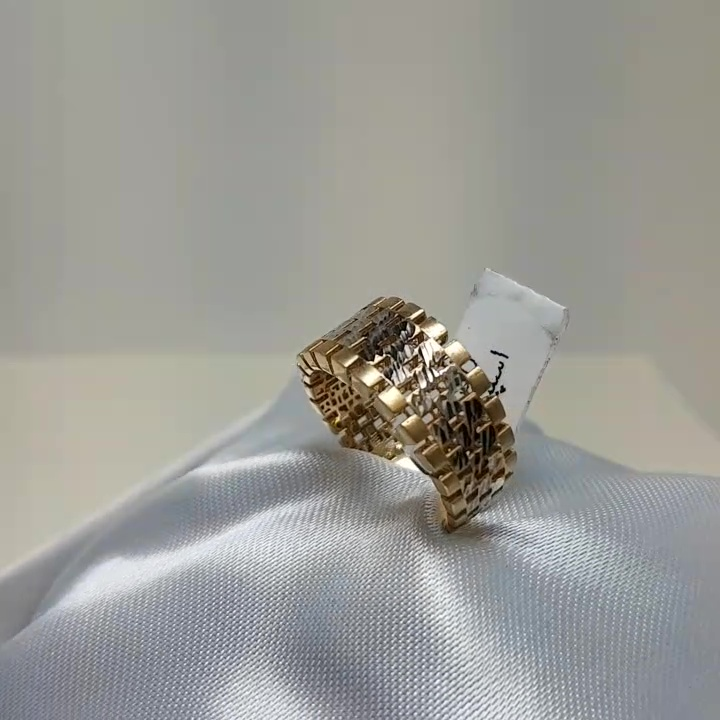Ring 1: (282, 281, 536, 551)
